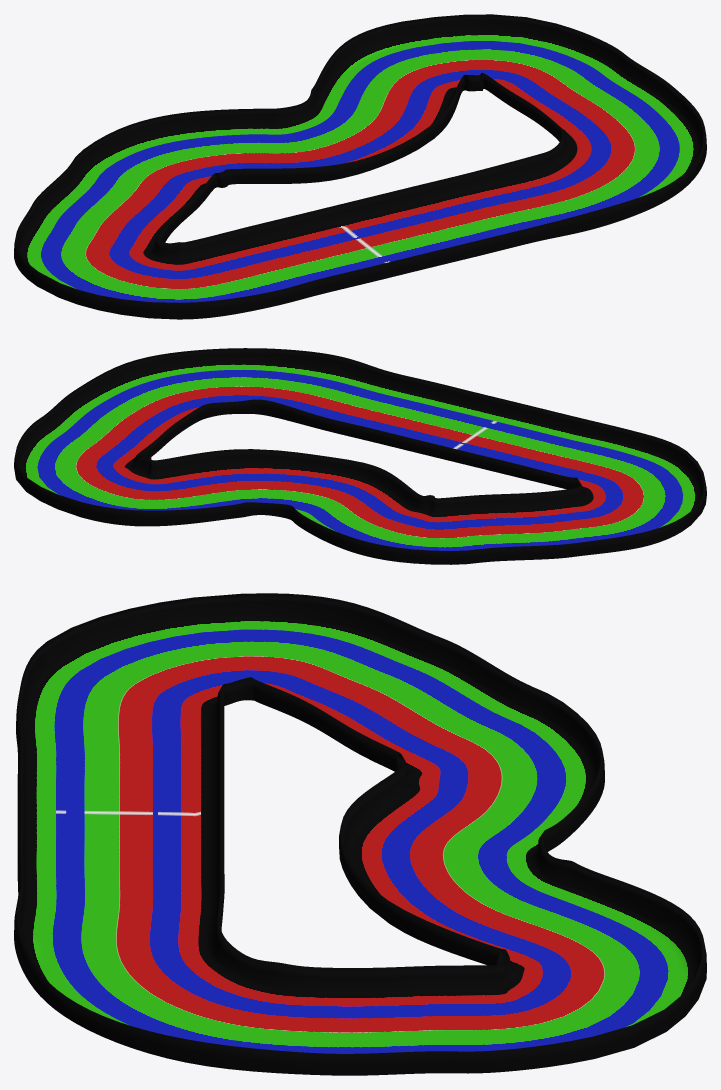
File: raceTrack.fbx
The picture shows the model from 3 angles, top to bottom: view 1: azimuth 30°, elevation 25°; view 2: azimuth 150°, elevation 25°; view 3: azimuth 270°, elevation 25°; orthographic projection. The views are drawn at different scales.
Parts seen in each view (by area): view 1: loftedSurface1; view 2: loftedSurface1; view 3: loftedSurface1.
Boxes of the visible parts, left/top/right/bottom form: loftedSurface1: left=14, top=14, right=706, bottom=319; loftedSurface1: left=14, top=348, right=706, bottom=564; loftedSurface1: left=14, top=593, right=706, bottom=1075.
Bounding box in the file's own units: 14.54 × 0.3642 × 9.21.
Materials: 1 (1 with a texture image).
